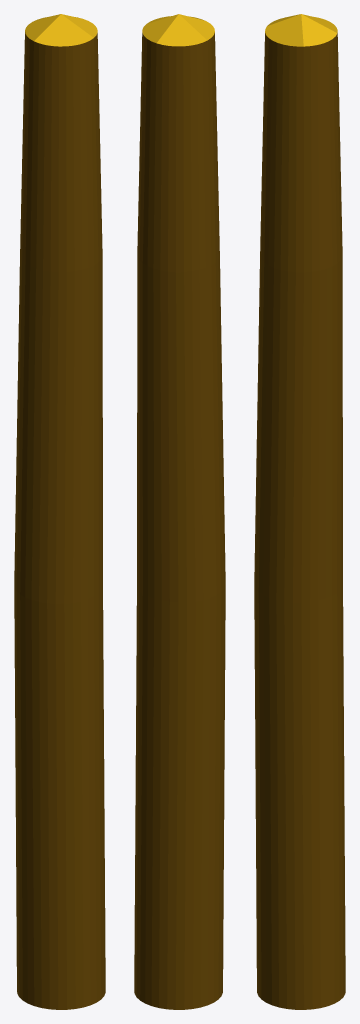
The model's file is stick.fbx.
3 views of the same model, side by side, from view 1: azimuth 30°, elevation 25°; view 2: azimuth 210°, elevation 25°; view 3: azimuth 330°, elevation 25° (orthographic).
Visible parts, largest first — view 1: stcik; view 2: stcik; view 3: stcik.
Boxes of the visible parts, x1,y1,x2,y2 form: stcik: [14, 14, 105, 1009]; stcik: [134, 14, 225, 1009]; stcik: [254, 14, 345, 1009].
Size of the model in its own units: 65.38 by 766 by 63.15.
